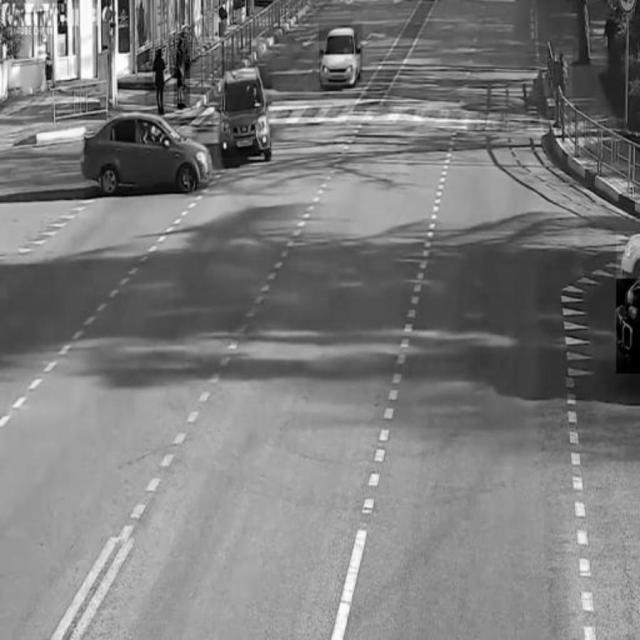person: (145, 44, 169, 105), (556, 47, 573, 128), (174, 32, 190, 106)
vehicle: (84, 109, 214, 199), (218, 64, 274, 158), (319, 23, 363, 83), (616, 279, 640, 373), (616, 231, 640, 292)
